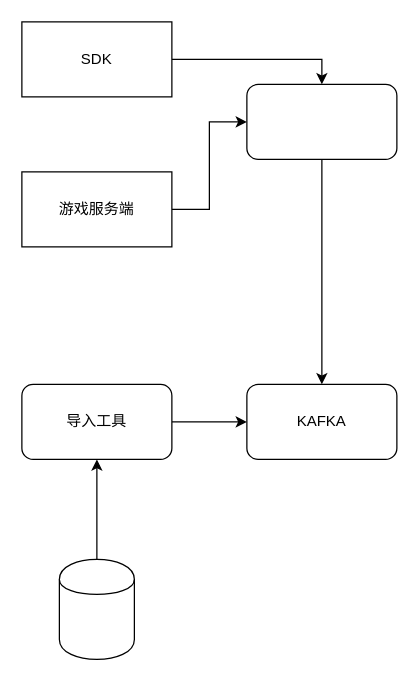
The diagram is 419 pixels wide and 681 high, and some of its shapes have lost their labels. The shapes that lost their labels are listed below. From the top down, each one's centre as x and y in pixels, then its label:
At (x=321, y=121): "数据打点API接口".
At (x=96, y=608): "MYSQL日志".
